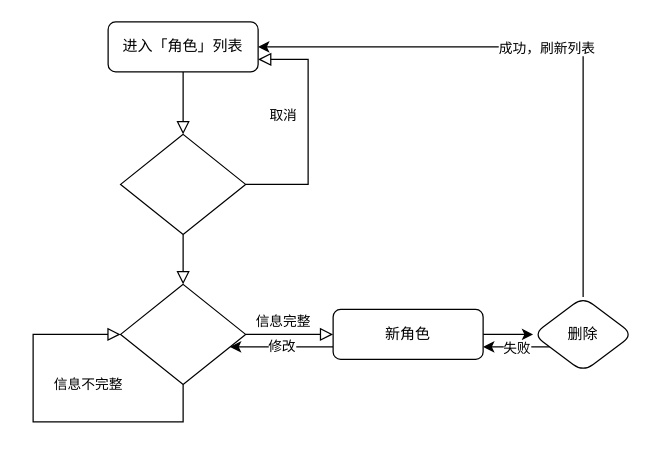
The diagram is 655 pixels wide and 456 high, and some of its shapes have lost their labels. Each missing label, with the centre of its shape:
"填写信息" belongs at [182,333].
"新建角色" belongs at [182,183].
